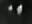person: (17, 4, 24, 19), (9, 5, 14, 13)
